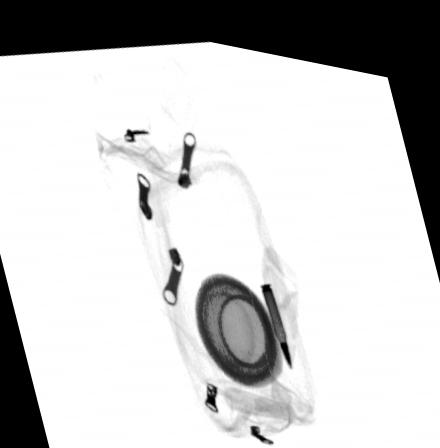Bullet: (259, 269, 293, 359)
